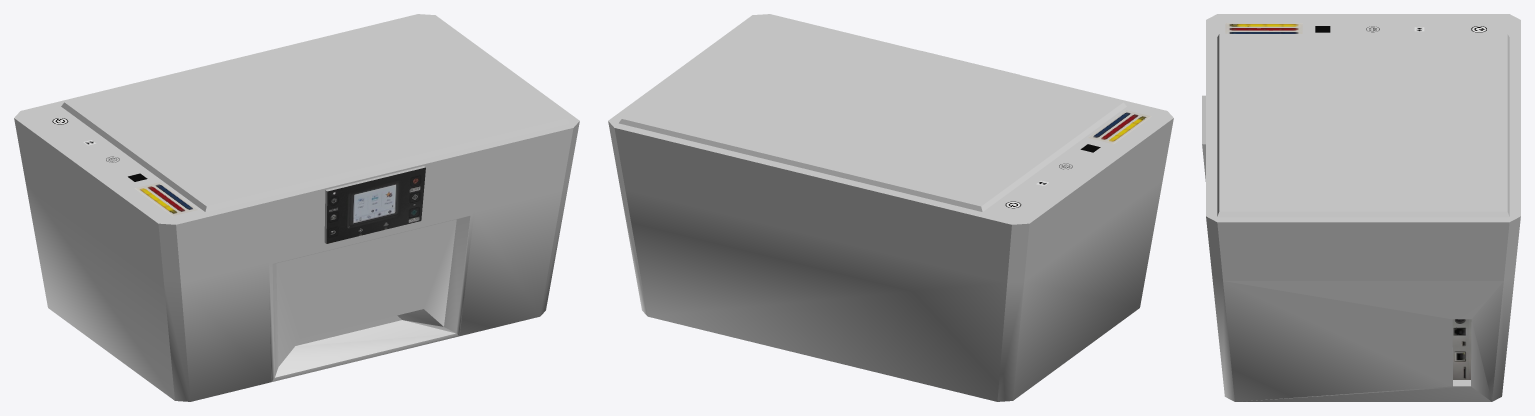
File: SchoolPrinterExtraClean.fbx
3 renders of one model, left to right at view 1: azimuth 30°, elevation 25°; view 2: azimuth 150°, elevation 25°; view 3: azimuth 270°, elevation 25°, orthographic.
Visible parts, largest first — view 1: PrinterEXTRACLEAN; view 2: PrinterEXTRACLEAN; view 3: PrinterEXTRACLEAN.
Boxes of the visible parts, bbox=[...] form: PrinterEXTRACLEAN: bbox=[14, 14, 579, 401]; PrinterEXTRACLEAN: bbox=[608, 14, 1173, 401]; PrinterEXTRACLEAN: bbox=[1202, 14, 1520, 401].
Size of the model in its own units: 57.03 by 25.1 by 36.9.
